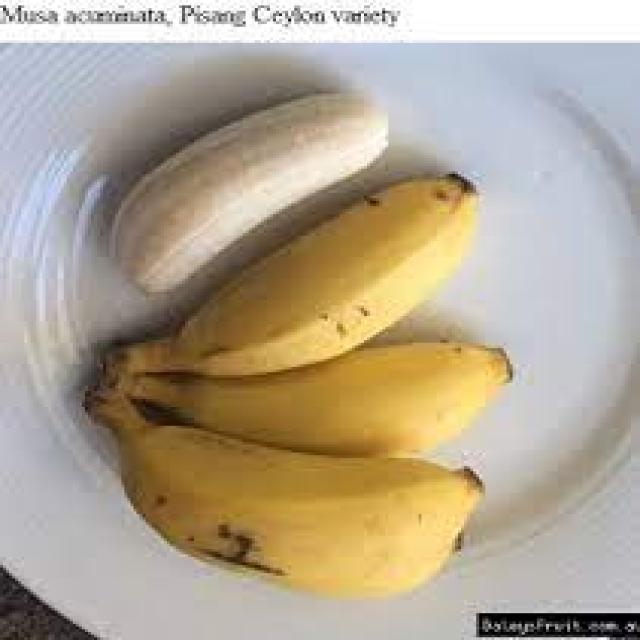banana: (89, 173, 539, 598)
